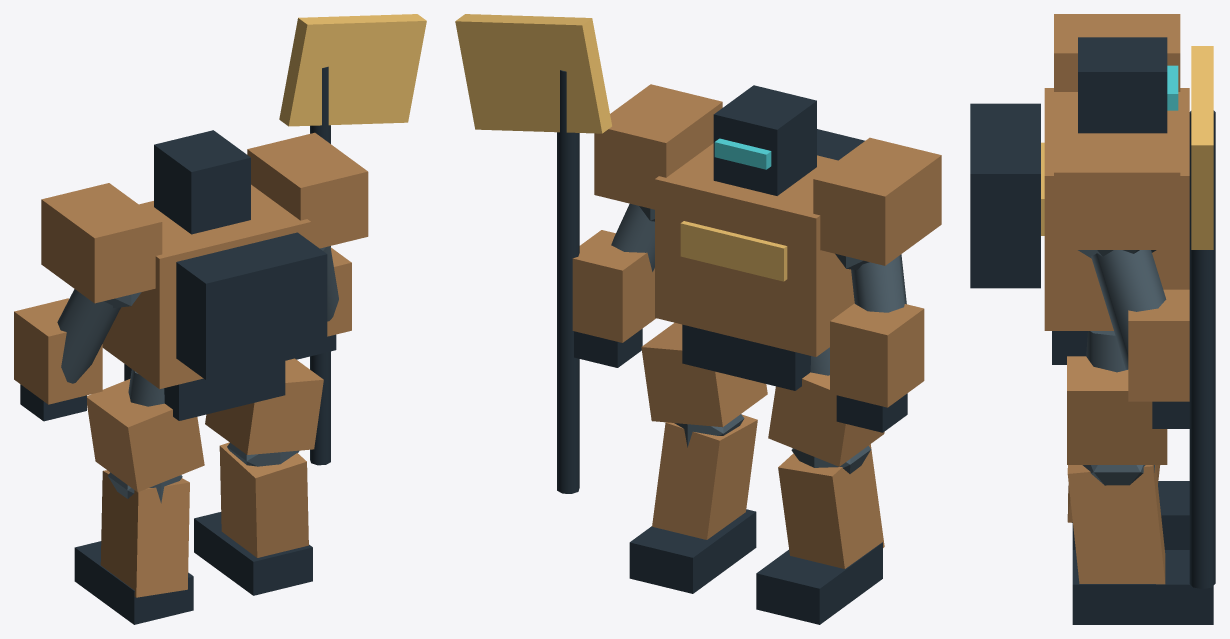
The model's file is frame-blackbeard.glb.
The picture shows the model from 3 angles, left to right: view 1: azimuth 30°, elevation 25°; view 2: azimuth 150°, elevation 25°; view 3: azimuth 270°, elevation 25°; orthographic projection. The views are drawn at different scales.
Visible parts, largest first — view 1: frame-blackbeard; view 2: frame-blackbeard; view 3: frame-blackbeard.
Boxes of the visible parts, box(x1,y1,x2,y2) form: frame-blackbeard: box(14, 14, 426, 624); frame-blackbeard: box(455, 14, 941, 624); frame-blackbeard: box(970, 14, 1215, 624).
Size of the model in its own units: 1.5 by 1.8 by 0.66.
